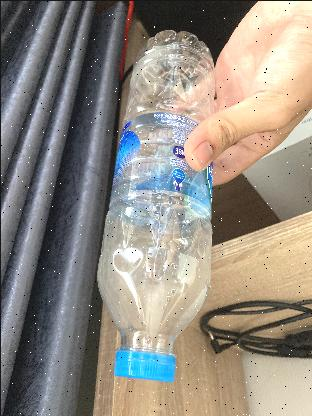Plastic Bottle: (92, 21, 214, 384)
